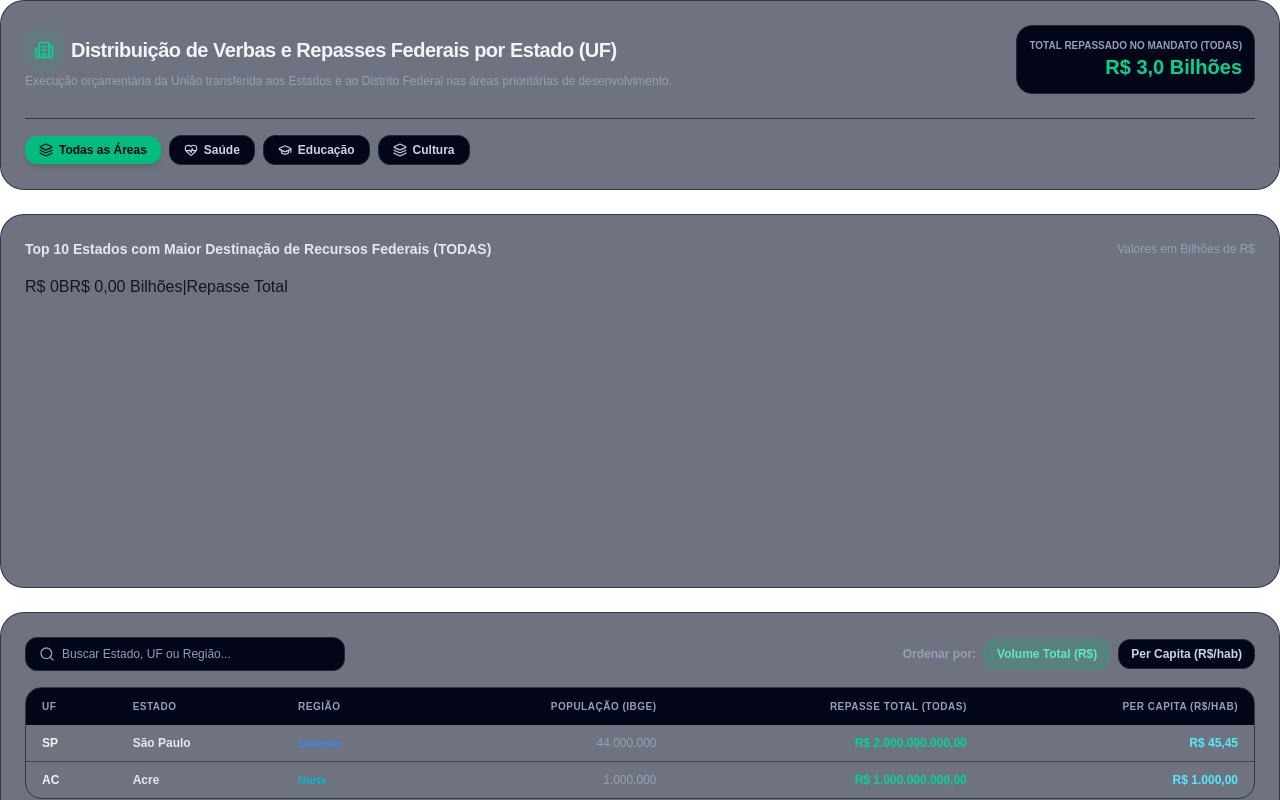
Test case: FederalTransfersPanel › erro ao filtrar mantém os botões e mostra alerta
This screenshot has width=1280, height=800.
Expected: the text "Acre" is shown, [117,762,282,798]
Click the button "Educação" at (316, 150), box [263,135,370,165]
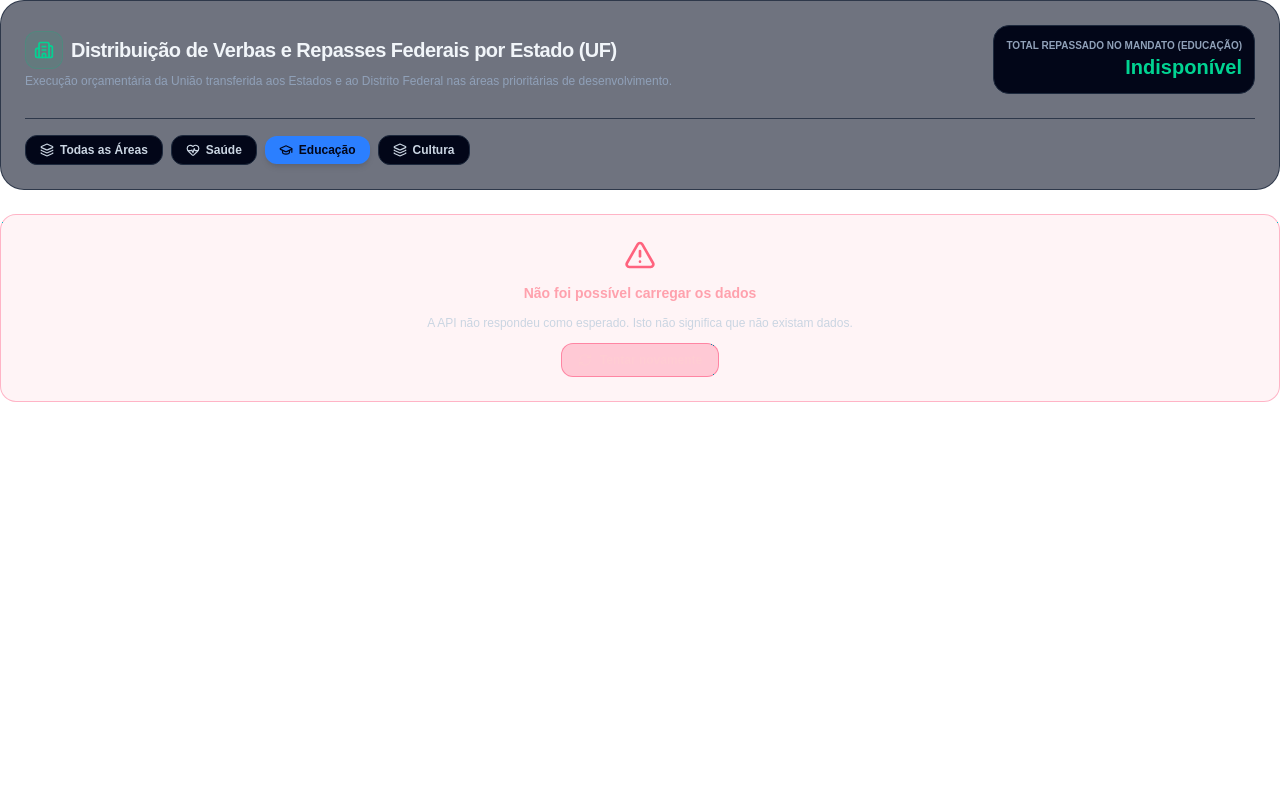
Expected: the message is shown, [0,214,1279,402]
